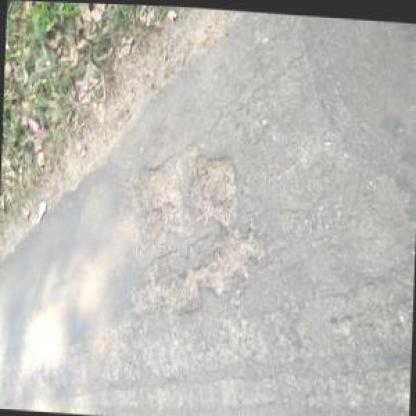pothole: (125, 134, 272, 324)
